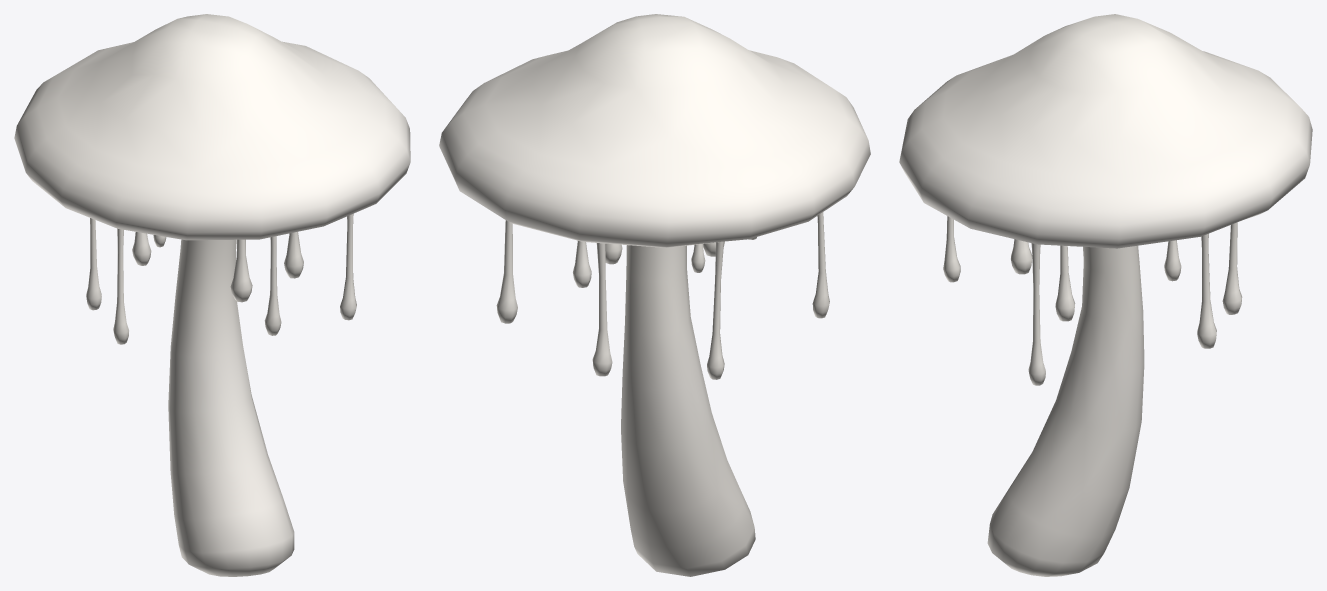
File: FrozenMushroom.fbx
The picture shows the model from 3 angles, left to right: view 1: azimuth 30°, elevation 25°; view 2: azimuth 150°, elevation 25°; view 3: azimuth 270°, elevation 25°; orthographic projection. The views are drawn at different scales.
Parts seen in each view (by area): view 1: Cap, Stem, DanglingSurfaces; view 2: Cap, Stem, DanglingSurfaces; view 3: Cap, Stem, DanglingSurfaces.
Boxes of the visible parts, left/top/right/bottom form: Cap: left=14, top=14, right=410, bottom=240; Stem: left=168, top=239, right=294, bottom=576; DanglingSurfaces: left=86, top=213, right=356, bottom=344; Cap: left=439, top=14, right=870, bottom=247; Stem: left=621, top=245, right=755, bottom=576; DanglingSurfaces: left=496, top=212, right=829, bottom=379; Cap: left=899, top=14, right=1312, bottom=248; Stem: left=987, top=245, right=1144, bottom=576; DanglingSurfaces: left=943, top=216, right=1242, bottom=385.
Size of the model in its own units: 18.27 by 26.56 by 18.47.
